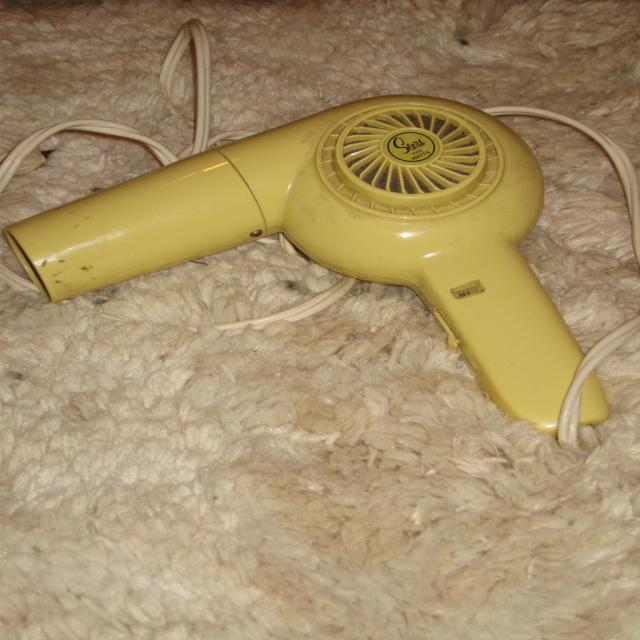dryer: (5, 83, 621, 458)
